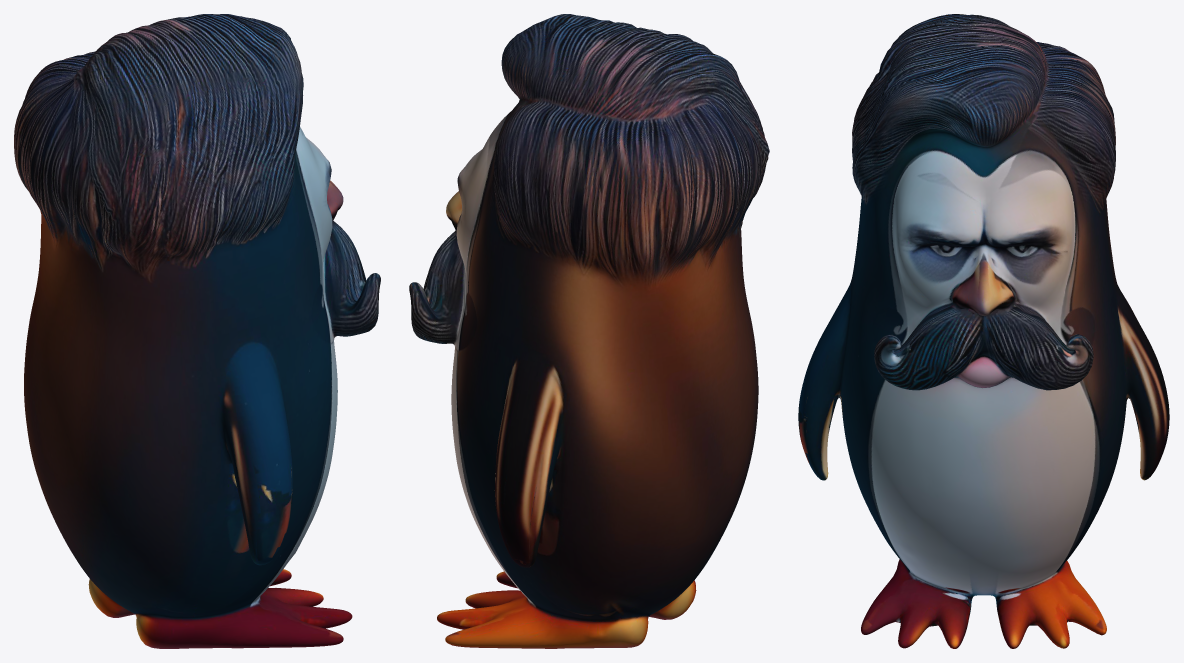
Rendered from philopenguine.obj.
The picture shows the model from 3 angles, left to right: view 1: azimuth 30°, elevation 25°; view 2: azimuth 150°, elevation 25°; view 3: azimuth 270°, elevation 25°; orthographic projection. The views are drawn at different scales.
Visible parts, largest first — view 1: tripo_node_7afa094d-0ed5-4b4e-9ef8-f15c7d08a61c; view 2: tripo_node_7afa094d-0ed5-4b4e-9ef8-f15c7d08a61c; view 3: tripo_node_7afa094d-0ed5-4b4e-9ef8-f15c7d08a61c.
Part boxes in pixels (bbox=[...]): tripo_node_7afa094d-0ed5-4b4e-9ef8-f15c7d08a61c: bbox=[14, 14, 380, 648]; tripo_node_7afa094d-0ed5-4b4e-9ef8-f15c7d08a61c: bbox=[409, 14, 769, 648]; tripo_node_7afa094d-0ed5-4b4e-9ef8-f15c7d08a61c: bbox=[798, 14, 1169, 648].
Size of the model in its own units: 0.5042 by 0.9469 by 0.5746.
1 material, 1 textured.
